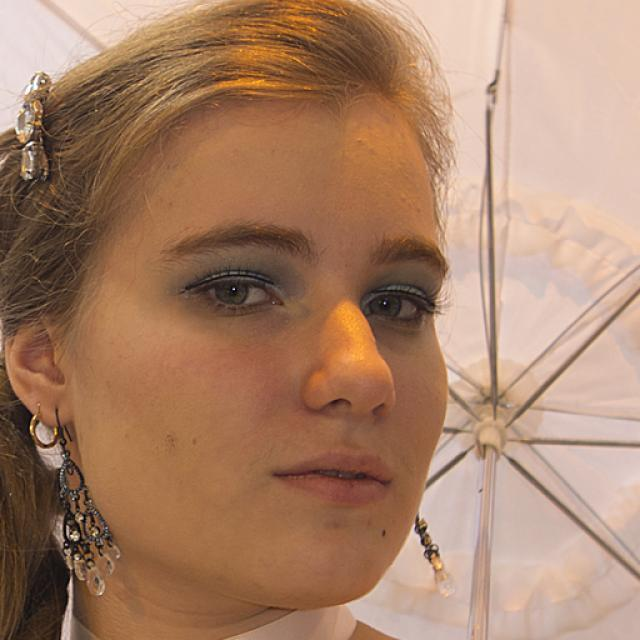neutral: (78, 78, 454, 610)
